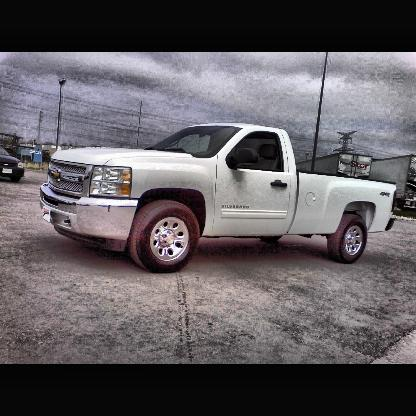Chevrolet Silverado 1500 Regular Cab 2012: (39, 124, 397, 275)
